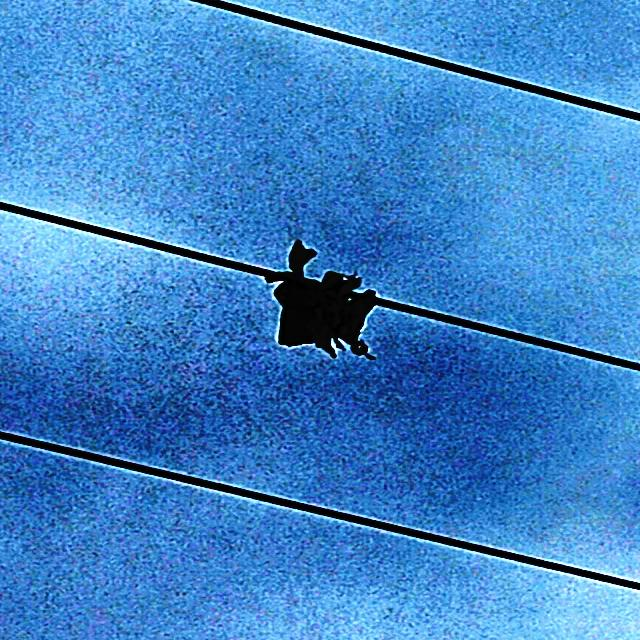obstruction: (253, 248, 382, 357)
wires: (0, 433, 639, 594), (185, 0, 639, 125), (0, 202, 309, 290), (318, 294, 639, 375)
